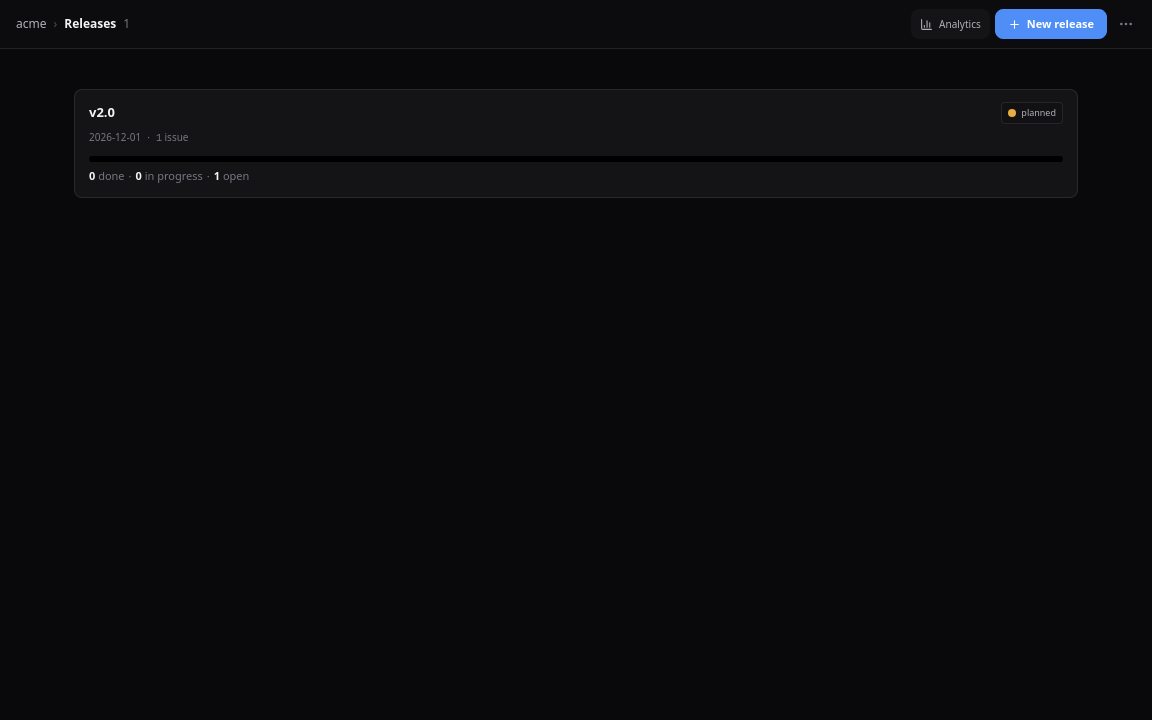
Test case: Release notes dialog › Copy/Download are disabled while notes are loading
Click the button with aria-label "Open release v2.0": (1032, 113) left=74, top=89, right=1078, bottom=198
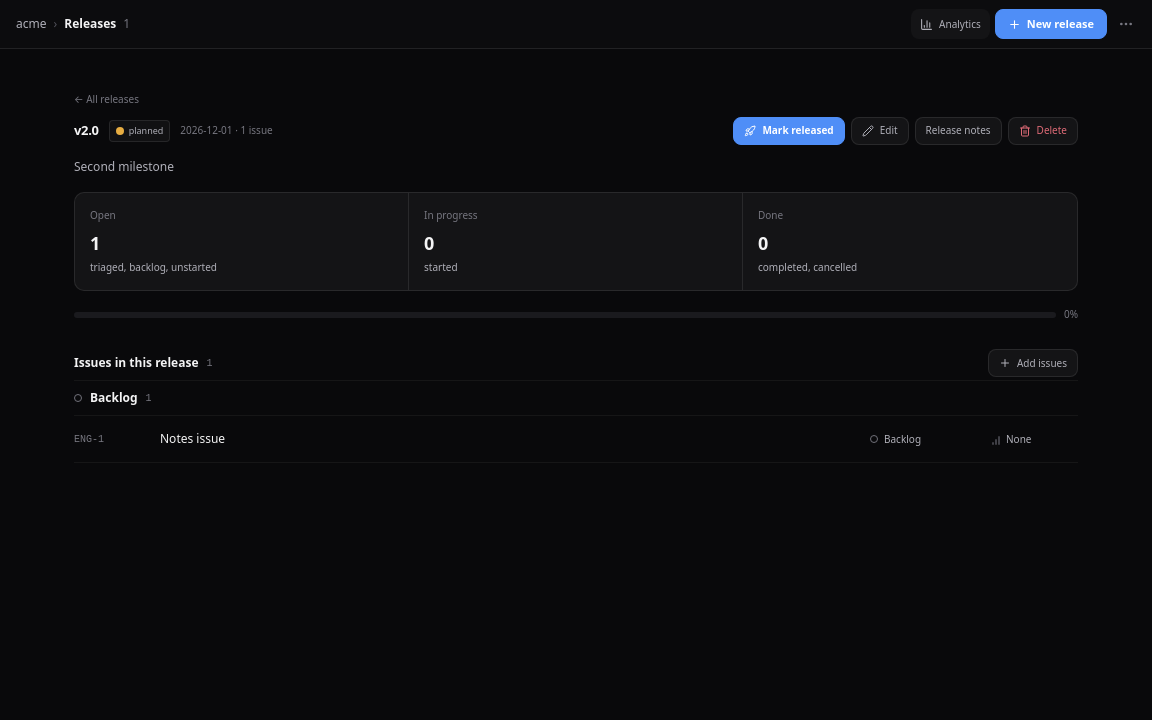
Click the button "Release notes": (958, 130) left=915, top=116, right=1002, bottom=144
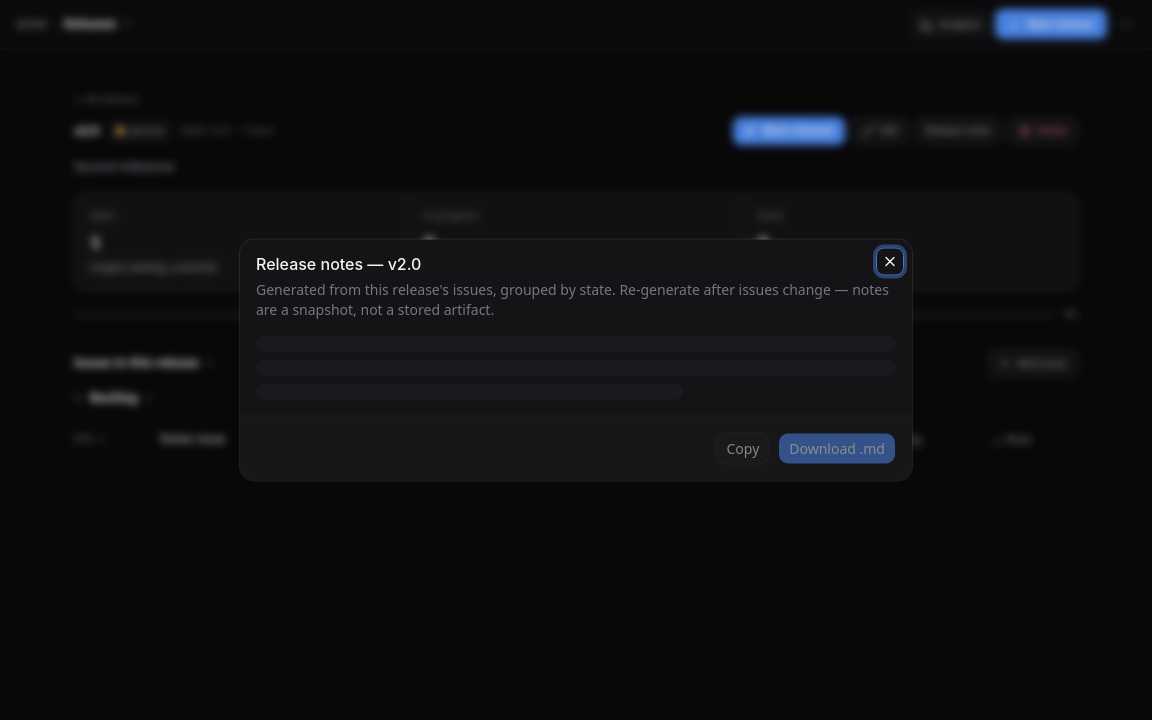
Expected: the button "Copy" is disabled, left=716, top=432, right=770, bottom=464
Expected: the button "Download .md" is disabled, left=778, top=432, right=896, bottom=464
